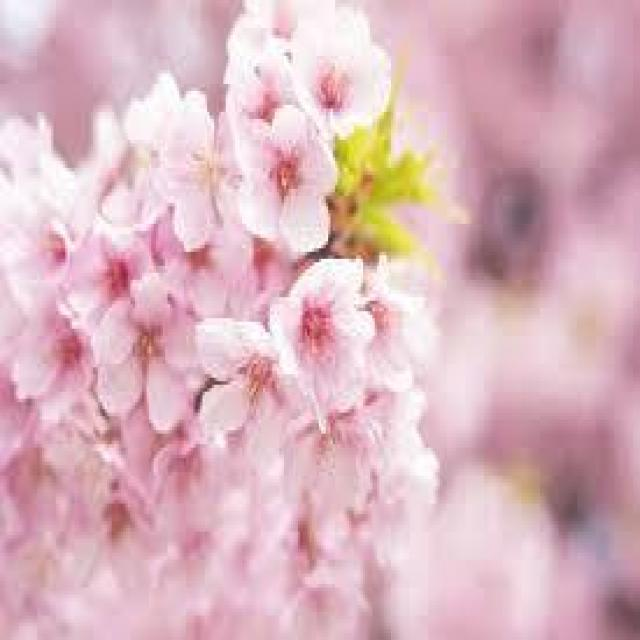organic waste: (266, 246, 380, 422), (284, 3, 410, 144), (227, 86, 336, 232)
